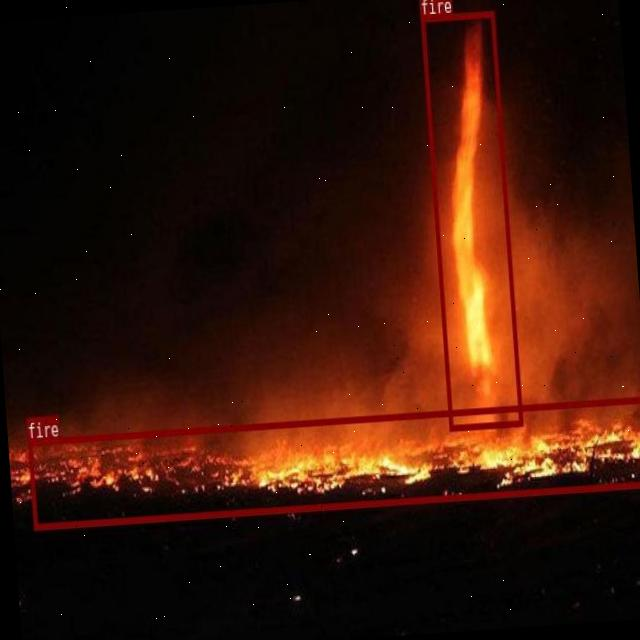fire: (27, 395, 640, 528), (419, 11, 522, 430)
